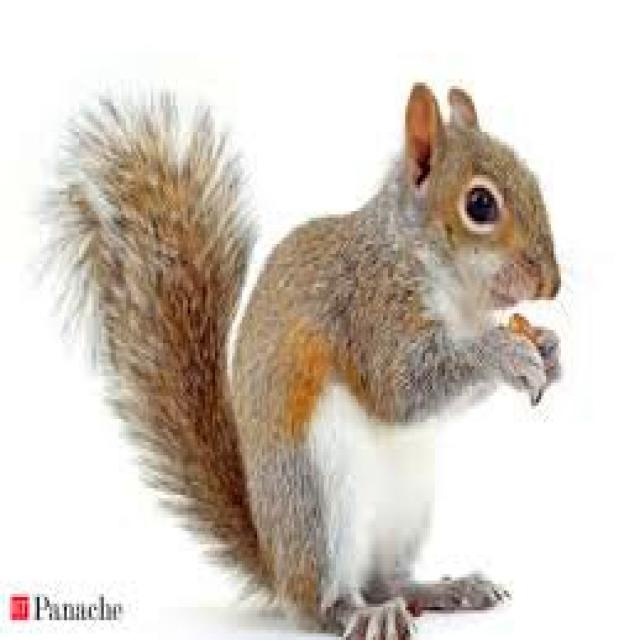squirrel: (47, 82, 558, 637)
